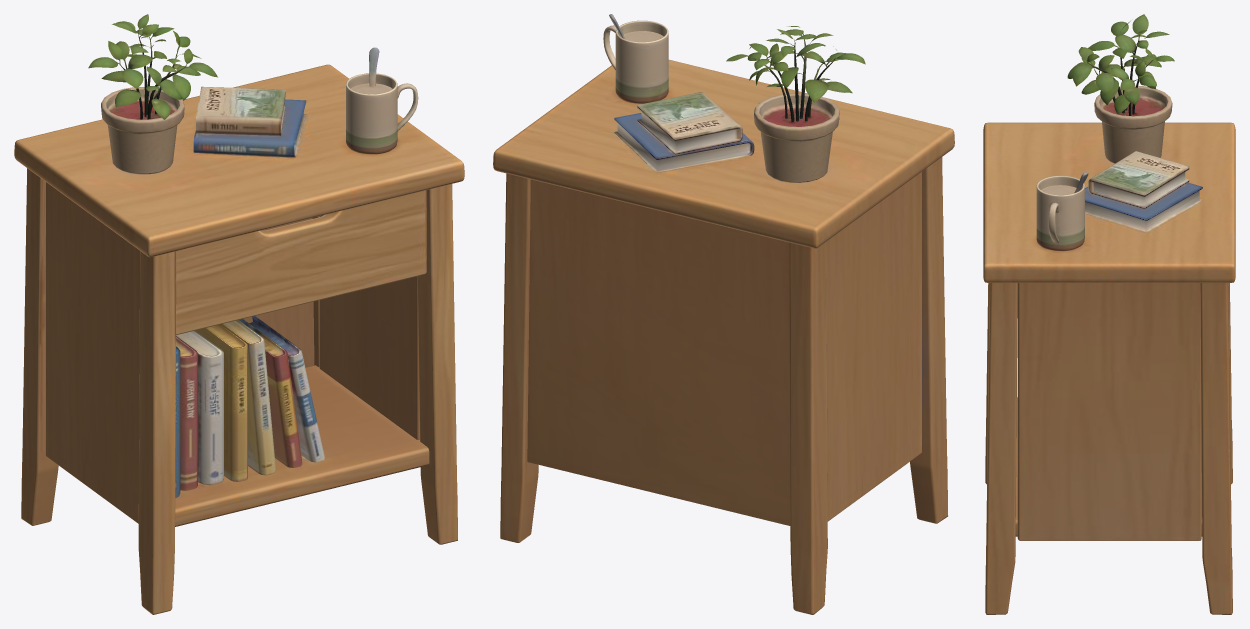
File: nightstand.glb
3 views of the same model, side by side, from view 1: azimuth 30°, elevation 25°; view 2: azimuth 150°, elevation 25°; view 3: azimuth 270°, elevation 25° (orthographic). The views are drawn at different scales.
Parts seen in each view (by area): view 1: tripo_93484ea6_71e2_4c1f_8abf_0be4f732f307; view 2: tripo_93484ea6_71e2_4c1f_8abf_0be4f732f307; view 3: tripo_93484ea6_71e2_4c1f_8abf_0be4f732f307.
Part boxes in pixels (bbox=[...]): tripo_93484ea6_71e2_4c1f_8abf_0be4f732f307: bbox=[14, 14, 464, 614]; tripo_93484ea6_71e2_4c1f_8abf_0be4f732f307: bbox=[493, 14, 954, 614]; tripo_93484ea6_71e2_4c1f_8abf_0be4f732f307: bbox=[983, 14, 1235, 614].
Size of the model in its own units: 0.6392 by 0.9995 by 0.4741.
1 material, 1 textured.
